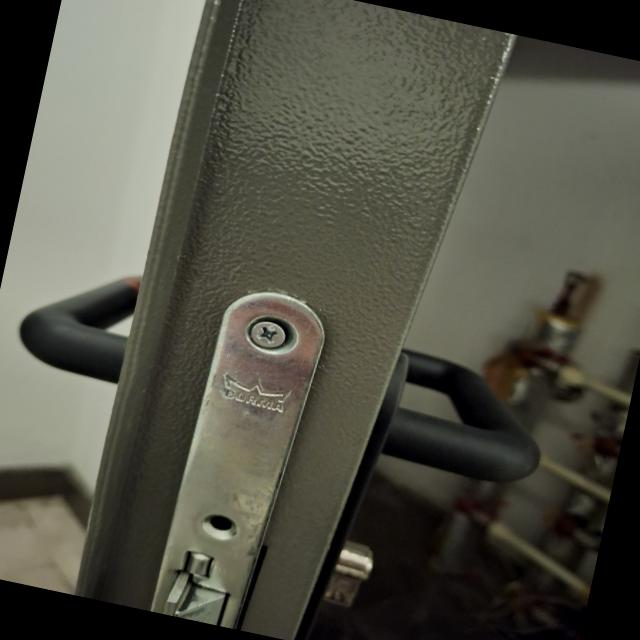Phillips: (243, 317, 292, 354)
